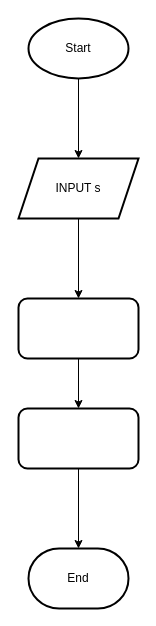
This 156x626 diagram has some shape labels left out. Here are the shapes that lost their labels. From the top down, the centre of each, then its label:
the point at 78,328: s.lstrip("-")
the point at 78,438: print(sum(list(s)))
